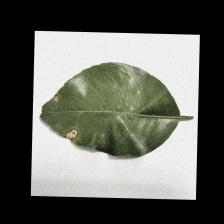canker: (43, 78, 84, 144)
